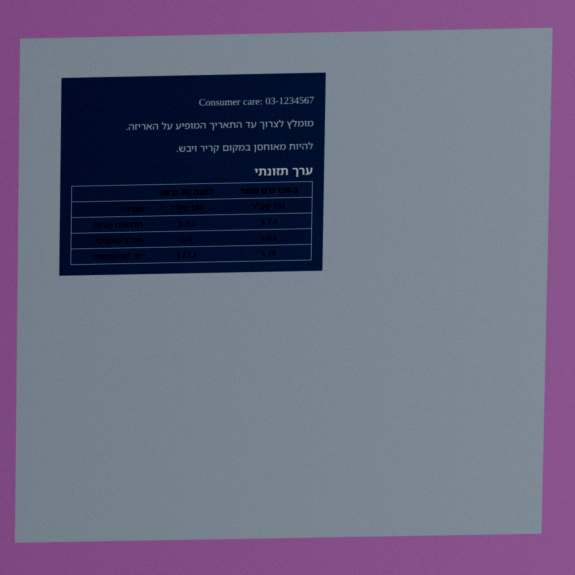carbs: (259, 246, 277, 260)
energy: (251, 199, 287, 213)
fat: (258, 230, 279, 244)
protein: (259, 214, 279, 229)
